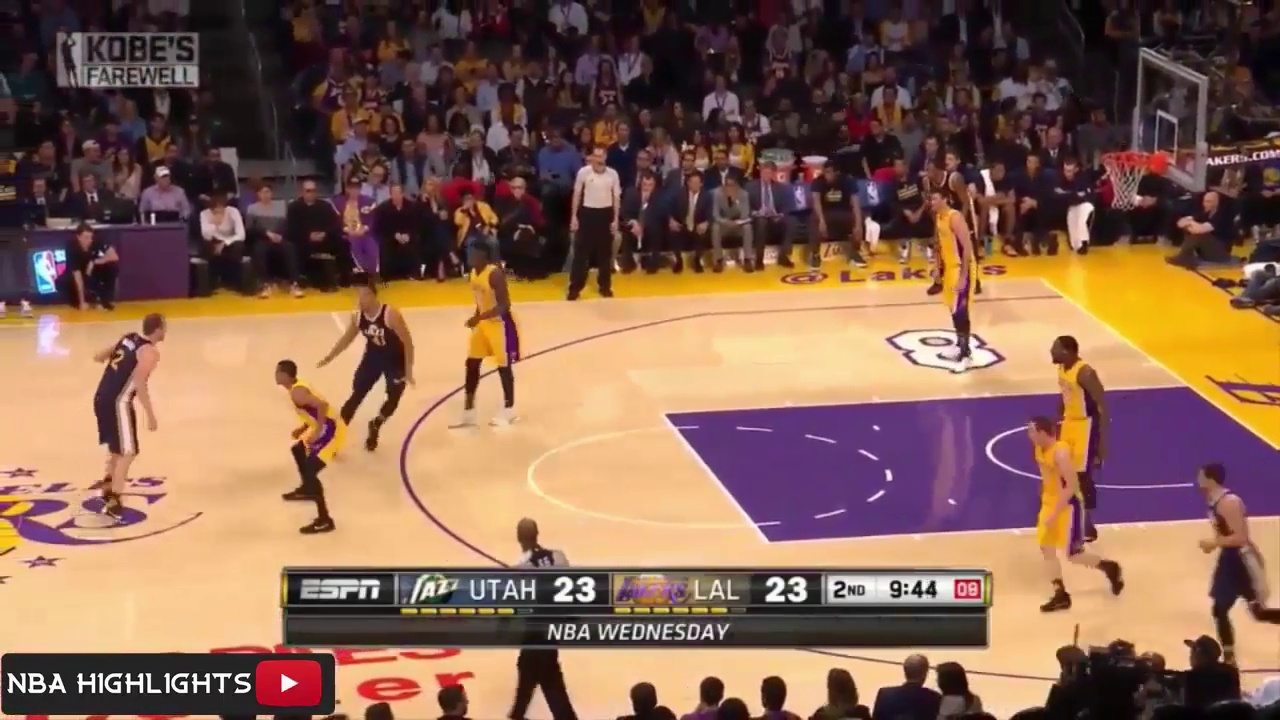jazz: (85, 314, 186, 516), (1188, 461, 1278, 668), (317, 277, 419, 456), (921, 159, 985, 287)
lakers: (1014, 415, 1121, 609), (267, 358, 349, 538), (1042, 333, 1108, 546), (926, 192, 994, 387), (454, 240, 519, 431)
